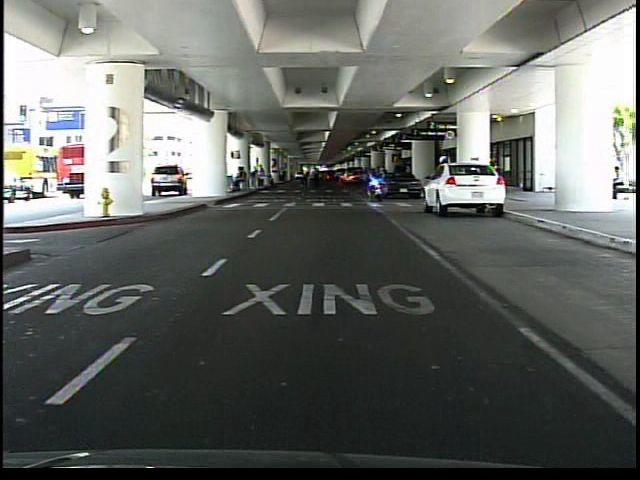person: (434, 151, 452, 211), (602, 163, 630, 200)
